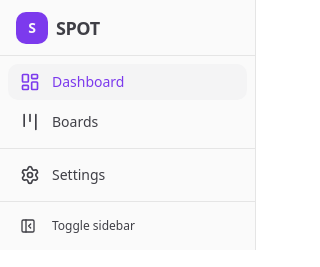
it: Sidebar › collapses on toggle button click
Expected: the text "SPOT" is shown, [56,14,100,42]
Expected: the text "Dashboard" is shown, [52,72,124,92]
Note: Click collapse
Click the button with id "sidebar-toggle" at (128, 226), box [8,210,247,242]
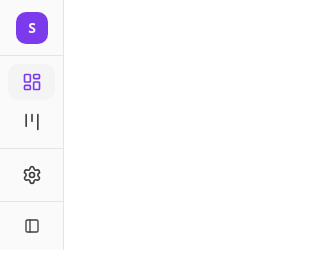
Expected: the text "SPOT" is gone
Expected: the link "Dashboard" is gone
